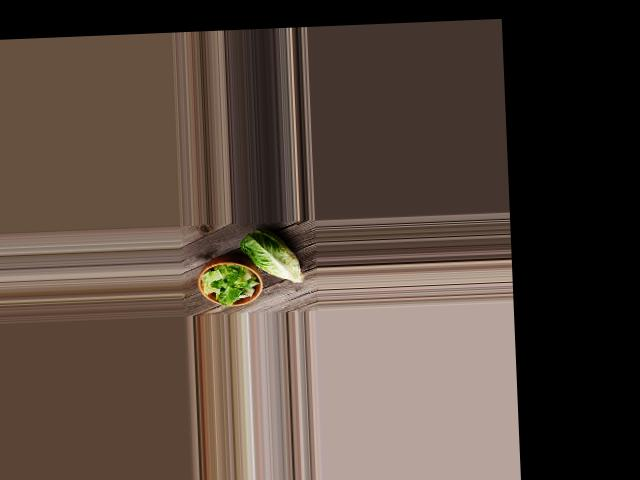lettuce: (240, 226, 302, 285)
